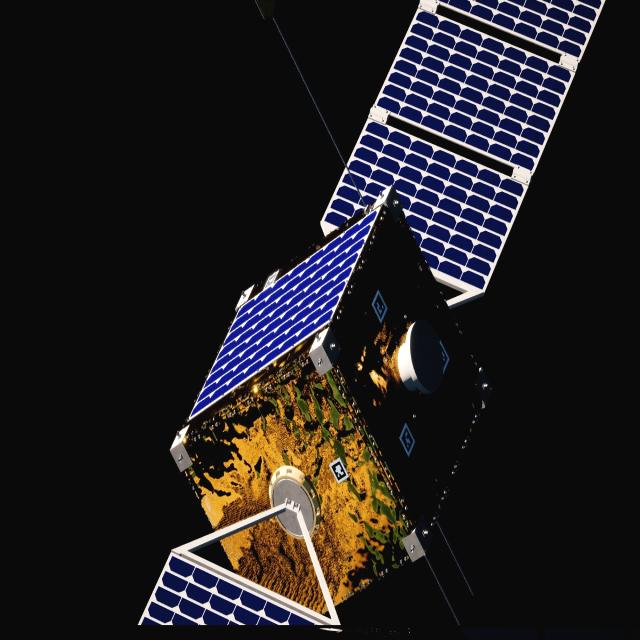satellite: (138, 0, 606, 634)
